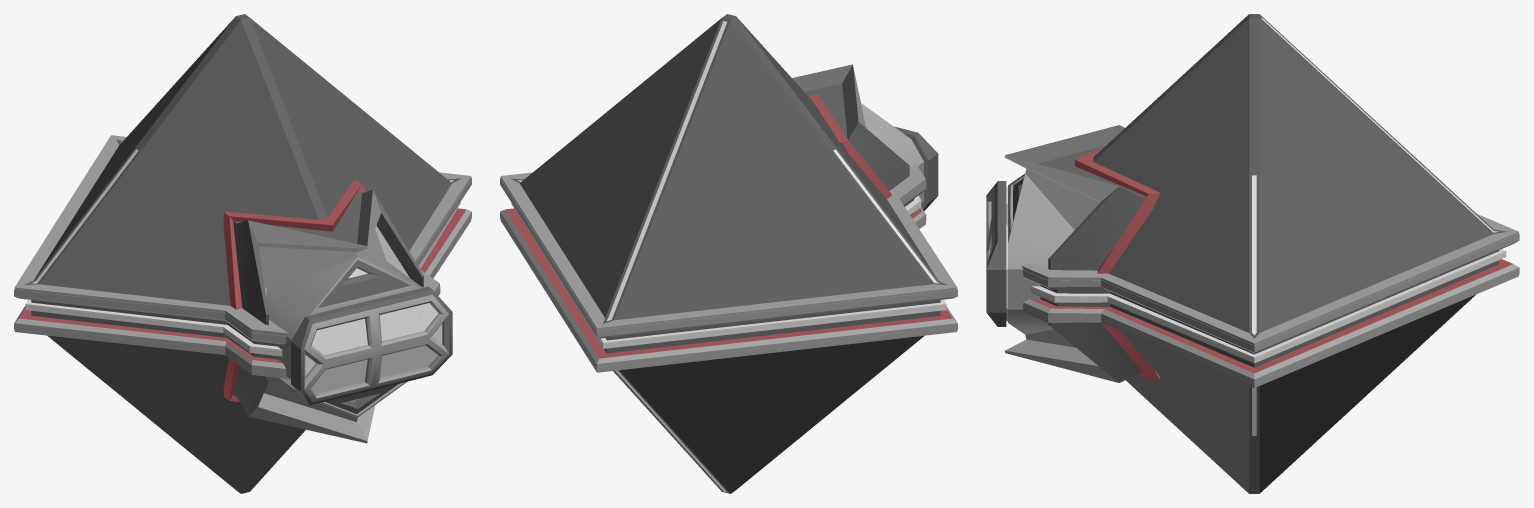
The model's file is FlyingEnemy.fbx.
3 renders of one model, left to right at view 1: azimuth 30°, elevation 25°; view 2: azimuth 150°, elevation 25°; view 3: azimuth 270°, elevation 25°, orthographic.
Parts seen in each view (by area): view 1: flying_enemy; view 2: flying_enemy; view 3: flying_enemy.
Part boxes in pixels (x1,y1,x2,y2): flying_enemy: (14,14,471,493); flying_enemy: (500,14,957,493); flying_enemy: (986,14,1519,493).
Size of the model in its own units: 110 by 109 by 110.
